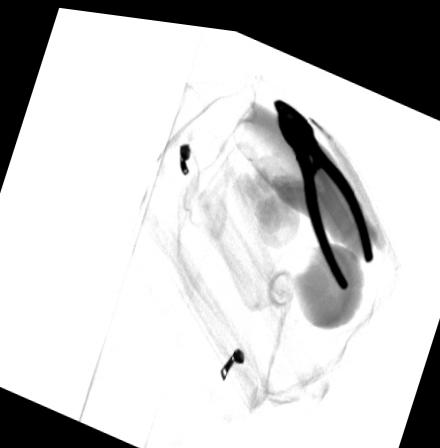Pliers: (271, 89, 376, 281)
